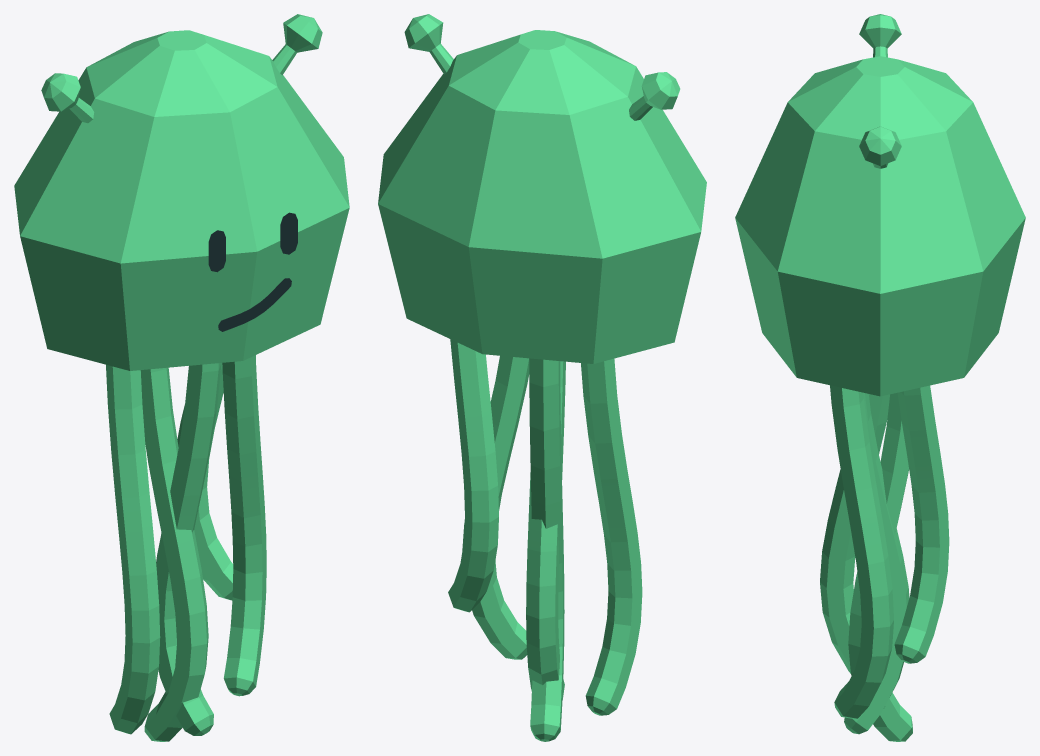
The model's file is player_normal.fbx.
The picture shows the model from 3 angles, left to right: view 1: azimuth 30°, elevation 25°; view 2: azimuth 150°, elevation 25°; view 3: azimuth 270°, elevation 25°; orthographic projection. The views are drawn at different scales.
Parts seen in each view (by area): view 1: HeadBase, BezierCurve.006, BezierCurve.008, BezierCurve.005, BezierCurve.007, HeadEars, BezierCurve.009, HeadEyes, HeadMouth; view 2: HeadBase, BezierCurve.006, BezierCurve.009, BezierCurve.005, BezierCurve.007, BezierCurve.008, HeadEars; view 3: HeadBase, BezierCurve.008, BezierCurve.009, BezierCurve.006, BezierCurve.005, BezierCurve.007, HeadEars.
Part boxes in pixels (x1,y1,x2,y2): HeadBase: [14, 30, 349, 370]; BezierCurve.006: [106, 364, 160, 734]; BezierCurve.008: [222, 355, 266, 696]; BezierCurve.005: [140, 367, 208, 741]; BezierCurve.007: [156, 363, 221, 735]; HeadEars: [41, 14, 322, 123]; BezierCurve.009: [177, 363, 233, 600]; HeadEyes: [208, 212, 297, 272]; HeadMouth: [218, 278, 291, 331]; HeadBase: [378, 30, 706, 363]; BezierCurve.006: [581, 358, 642, 715]; BezierCurve.009: [448, 339, 498, 612]; BezierCurve.005: [529, 358, 564, 741]; BezierCurve.007: [526, 361, 565, 700]; BezierCurve.008: [462, 355, 529, 659]; HeadEars: [404, 14, 680, 120]; HeadBase: [735, 56, 1025, 396]; BezierCurve.008: [830, 385, 893, 718]; BezierCurve.009: [894, 385, 949, 663]; BezierCurve.006: [820, 394, 889, 673]; BezierCurve.005: [848, 392, 912, 741]; BezierCurve.007: [844, 392, 909, 734]; HeadEars: [859, 14, 901, 168].
Size of the model in its own units: 161 by 335 by 130.
